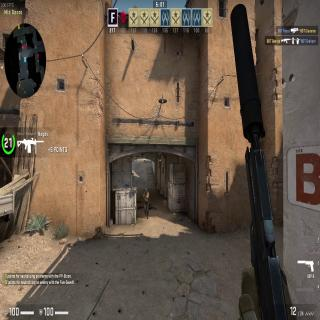CT-Body: (142, 188, 148, 218)
CT-Head: (144, 188, 148, 194)
